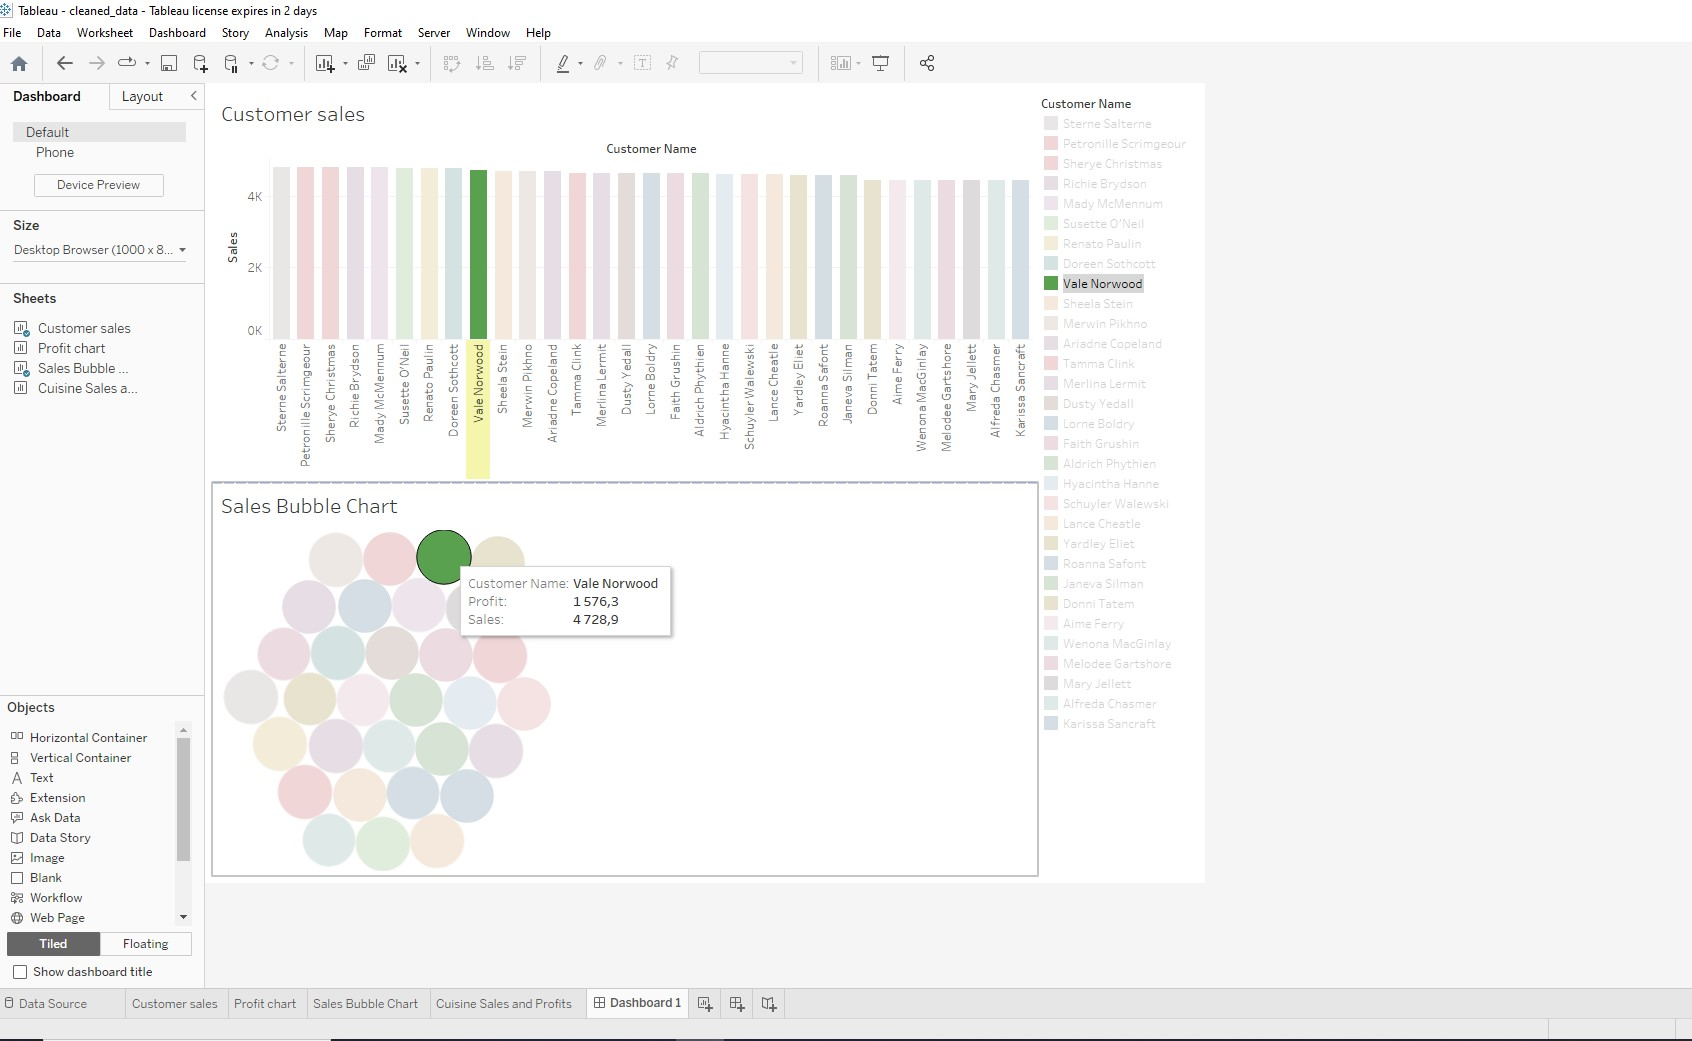

Layout of this report page (visuals, bound fields, positions):
{"tool":"tableau","page":{"name":"Dashboard 1","canvas":[1000,800],"ordinal":0},"visuals":[{"type":"worksheet","title":"Customer sales","mark":"Automatic","rows":["Sales"],"cols":["Customer Name"],"box":[8,8,824,392]},{"type":"legend","title":"Customer sales","param":"[federated.0dcz2vp0c0naq11ek4xyw1yhwk7n].[none:Customer Name:nk]","box":[832,8,160,646]},{"type":"worksheet","title":"Sales Bubble Chart","mark":"Circle","box":[8,400,824,392]}]}

Visuals, with their boxes on the page's 1000x800 design canvas (x1, y1, x2, y2). These are canvas units, not pixel positions in the 1692x1041 screenshot, which may show the page scaled, cropped or inside an application window:
"Customer sales" worksheet: [8,8,832,400]
"Customer sales" legend: [832,8,992,654]
"Sales Bubble Chart" worksheet (Circle marks): [8,400,832,792]
